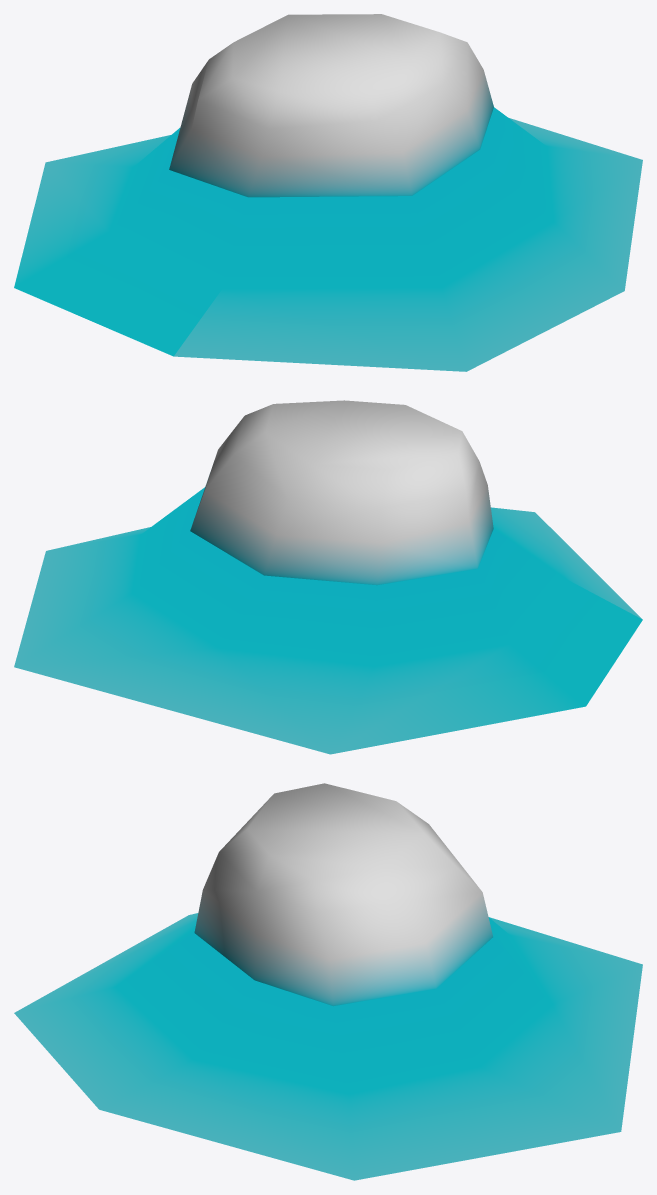
File: Side-forest-water_island_02.glb
The picture shows the model from 3 angles, top to bottom: view 1: azimuth 30°, elevation 25°; view 2: azimuth 150°, elevation 25°; view 3: azimuth 270°, elevation 25°; orthographic projection. The views are drawn at different scales.
Visible parts, largest first — view 1: Side-forest-water_island_02; view 2: Side-forest-water_island_02; view 3: Side-forest-water_island_02.
Boxes of the visible parts, box(x1,y1,x2,y2) form: Side-forest-water_island_02: box(14, 14, 642, 371); Side-forest-water_island_02: box(14, 400, 642, 754); Side-forest-water_island_02: box(14, 783, 642, 1180).
Bounding box in the file's own units: 15.8 × 4.92 × 14.52.
